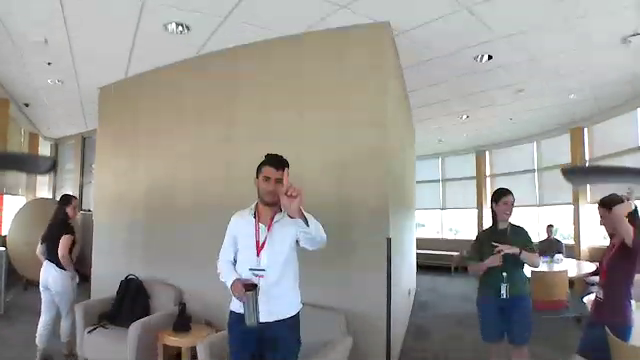up: (275, 162, 305, 218)
